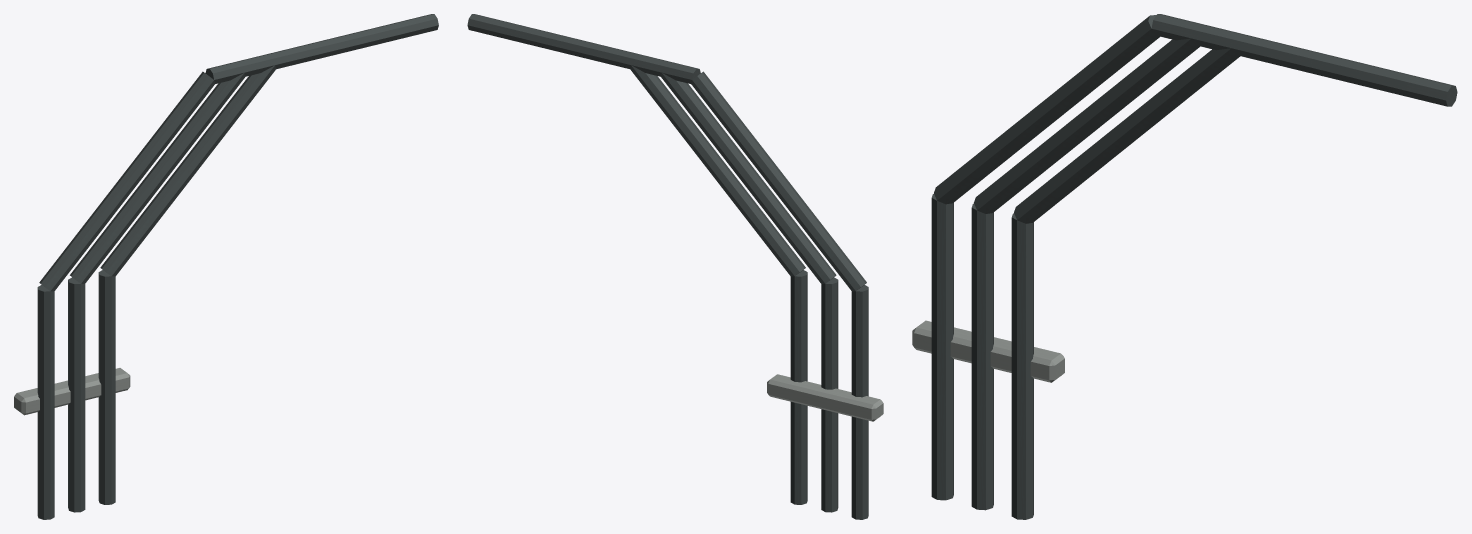
Rendered from D_Conduit_Bend_visual.glb.
3 renders of one model, left to right at view 1: azimuth 30°, elevation 25°; view 2: azimuth 150°, elevation 25°; view 3: azimuth 330°, elevation 25°, orthographic. The views are drawn at different scales.
Visible parts, largest first — view 1: D_Conduit_Bend__VIS; view 2: D_Conduit_Bend__VIS; view 3: D_Conduit_Bend__VIS.
Part boxes in pixels (x1=…): D_Conduit_Bend__VIS: x1=14, y1=14, x2=438, y2=519; D_Conduit_Bend__VIS: x1=467, y1=14, x2=883, y2=519; D_Conduit_Bend__VIS: x1=912, y1=14, x2=1457, y2=519.
Bounding box in the file's own units: 3.78 × 3.57 × 0.225.
1 material, 1 textured.
